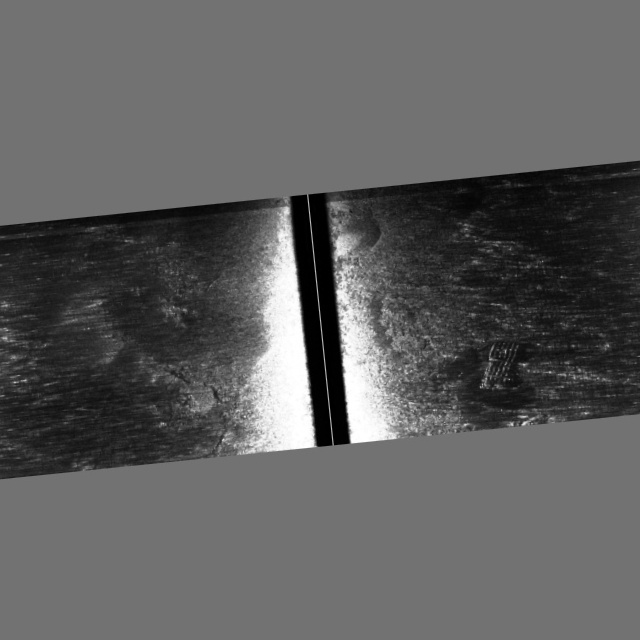Shipwreck: (475, 337, 553, 430)
